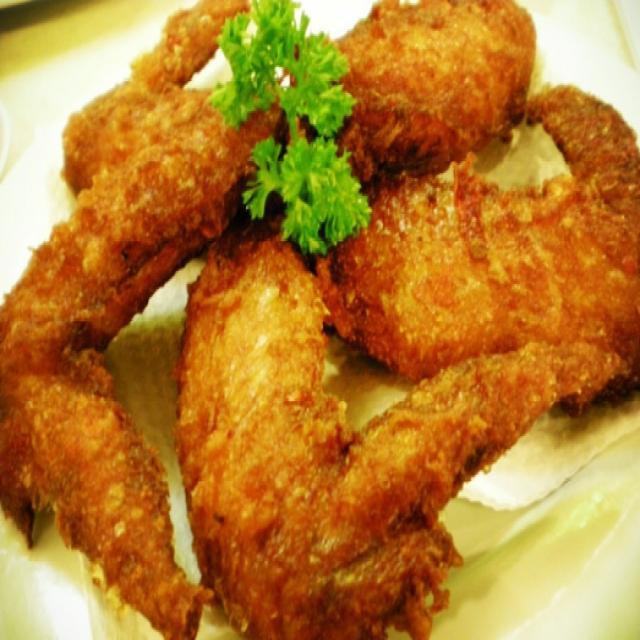Deep fried chicken wing: (4, 13, 633, 625)
